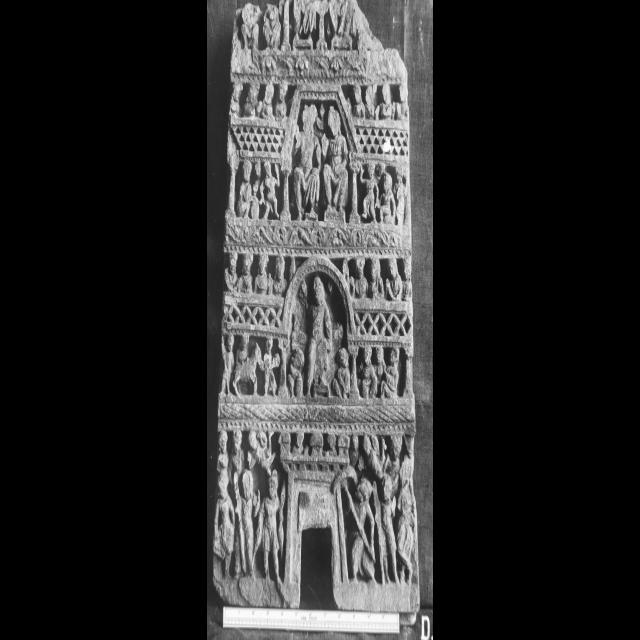buddha-standing: (308, 276, 332, 396)
